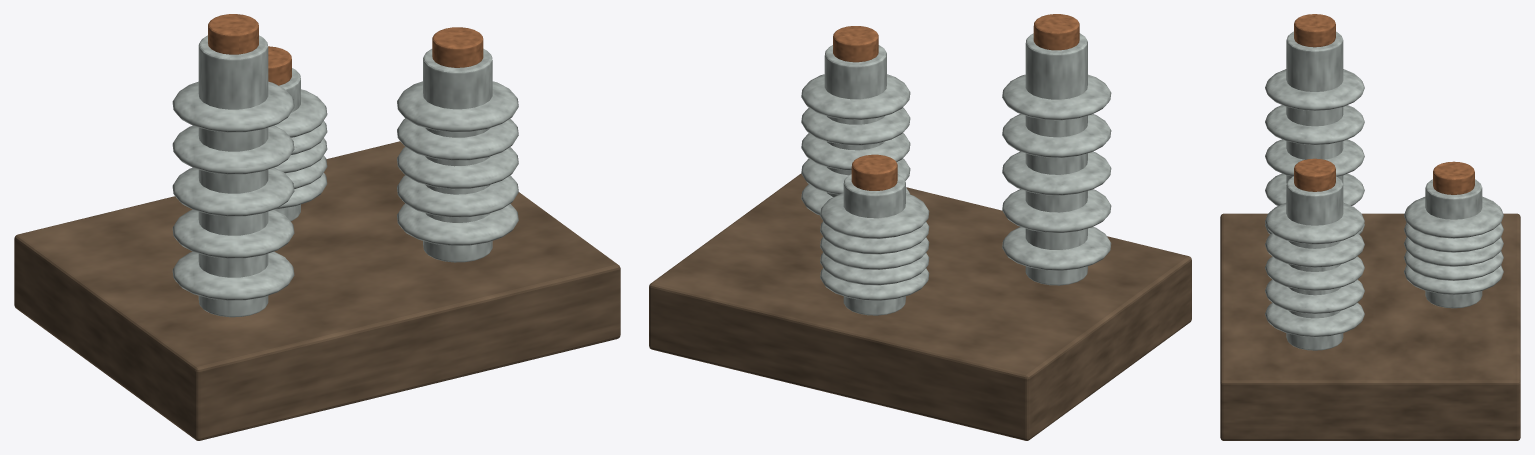
Rendered from GR_InsulatorSet_01.glb.
3 views of the same model, side by side, from view 1: azimuth 30°, elevation 25°; view 2: azimuth 150°, elevation 25°; view 3: azimuth 270°, elevation 25° (orthographic). The views are drawn at different scales.
Visible parts, largest first — view 1: Static; view 2: Static; view 3: Static.
Part boxes in pixels (x1,y1,x2,y2): Static: (14,14,620,440); Static: (649,14,1191,440); Static: (1220,14,1520,440).
Size of the model in its own units: 0.72 by 0.5725 by 0.54.
Materials: 1 (1 with a texture image).
